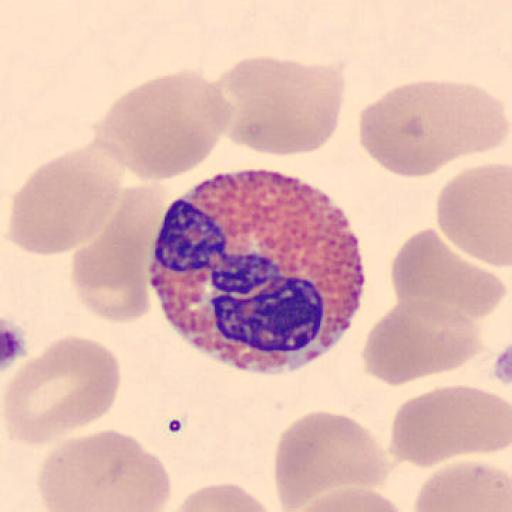RBC: (96, 68, 234, 182), (69, 182, 167, 324), (216, 54, 347, 158), (2, 335, 122, 446), (8, 145, 123, 257), (273, 409, 394, 512), (388, 226, 509, 327), (36, 427, 173, 512), (357, 79, 466, 179), (387, 384, 512, 470), (360, 298, 482, 386), (70, 217, 154, 323), (435, 162, 512, 268), (419, 78, 512, 160), (412, 460, 511, 512), (164, 481, 277, 512), (284, 488, 409, 512)
WBC: (146, 169, 368, 374)
